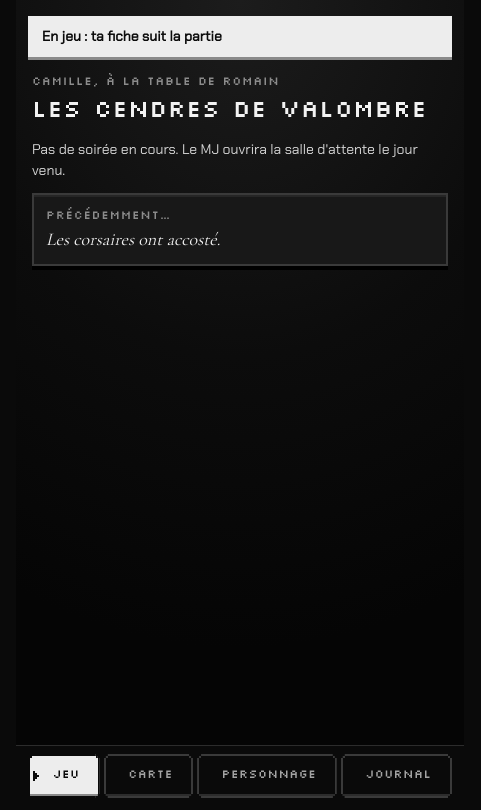
Scenario: PlayerHomePage › reads in the Journal what the group knows
This screenshot has width=481, height=810.
Click the button "Journal" at (396, 776), box [341,754,452,798]
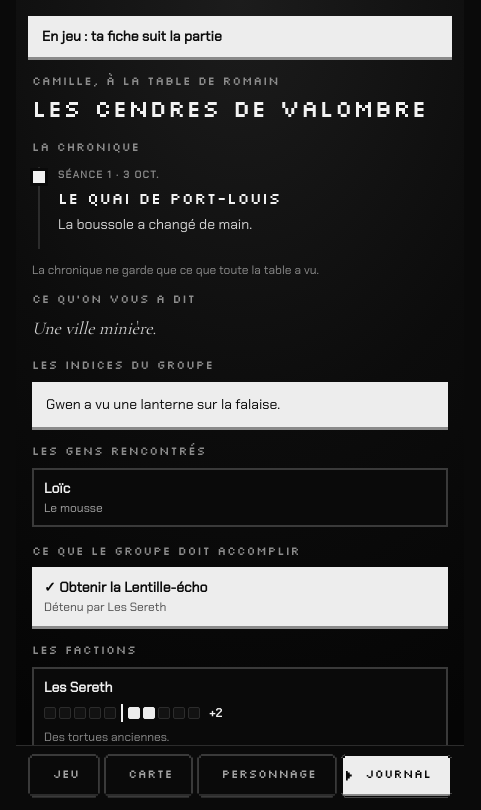
Check: the list item "Gwen a vu une lanterne sur la falaise." is shown, box [32,382,448,427]
Check: the text "Loïc" is shown, box [44,478,70,496]
Check: the text "Une ville minière." is shown, box [32,317,156,339]
